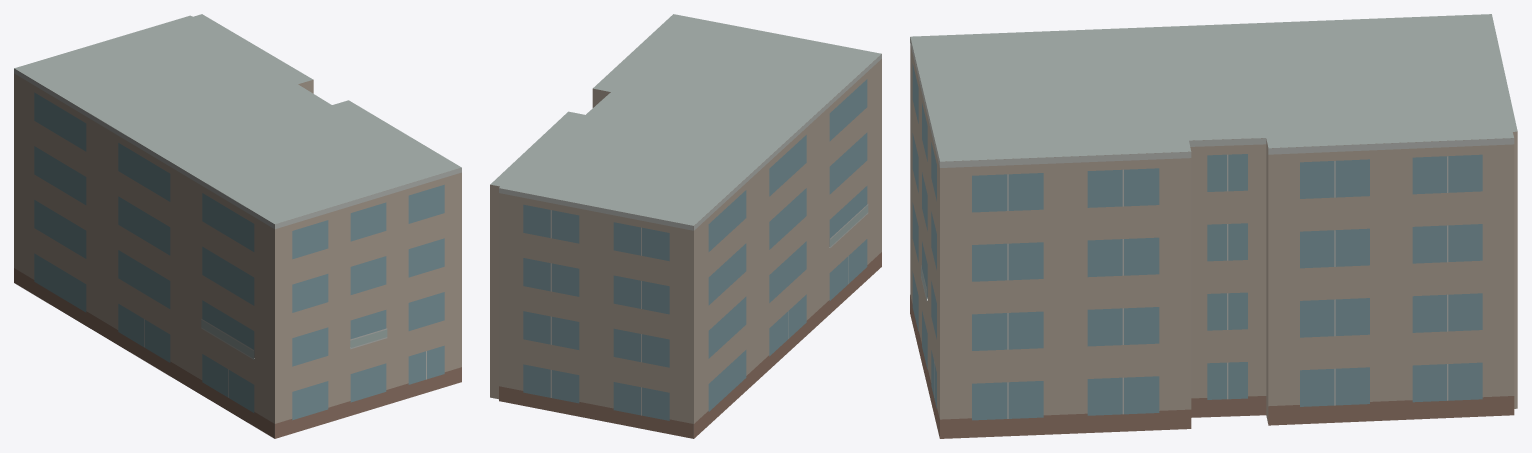
Rendered from survey-upis-32630590.glb.
3 views of the same model, side by side, from view 1: azimuth 30°, elevation 25°; view 2: azimuth 150°, elevation 25°; view 3: azimuth 270°, elevation 25° (orthographic). The views are drawn at different scales.
Parts seen in each view (by area): view 1: survey-upis-32630590.tmp; view 2: survey-upis-32630590.tmp; view 3: survey-upis-32630590.tmp.
Part boxes in pixels (left/top/right/bottom): survey-upis-32630590.tmp: left=14, top=14, right=461, bottom=438; survey-upis-32630590.tmp: left=490, top=14, right=881, bottom=438; survey-upis-32630590.tmp: left=910, top=14, right=1517, bottom=438.
Size of the model in its own units: 12 by 10.5 by 20.86.
